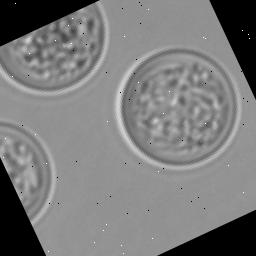picoshell: (114, 47, 240, 171), (0, 1, 108, 96), (0, 119, 55, 226)
